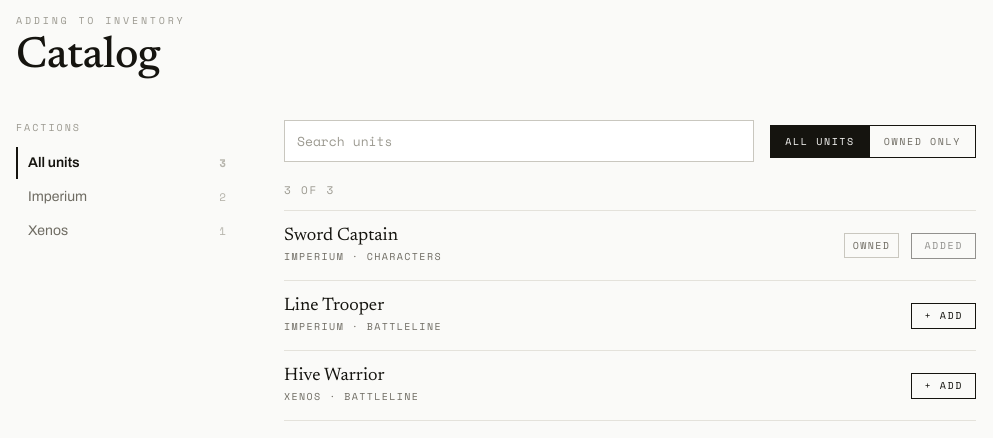
it: CatalogView › asks the server for owned-only units instead of filtering the page (F10)
Expected: the text "Sword Captain" is shown, [284,227,398,245]
Click the button "Owned only" at point(922, 141), box [869,126,975,157]
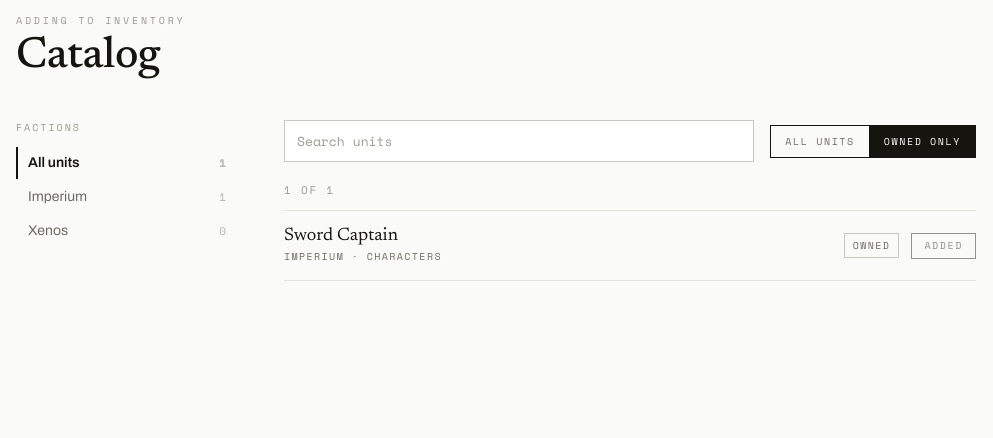
Expected: the text "Sword Captain" is shown, [284,227,398,245]
Expected: the text "Line Trooper" is gone
